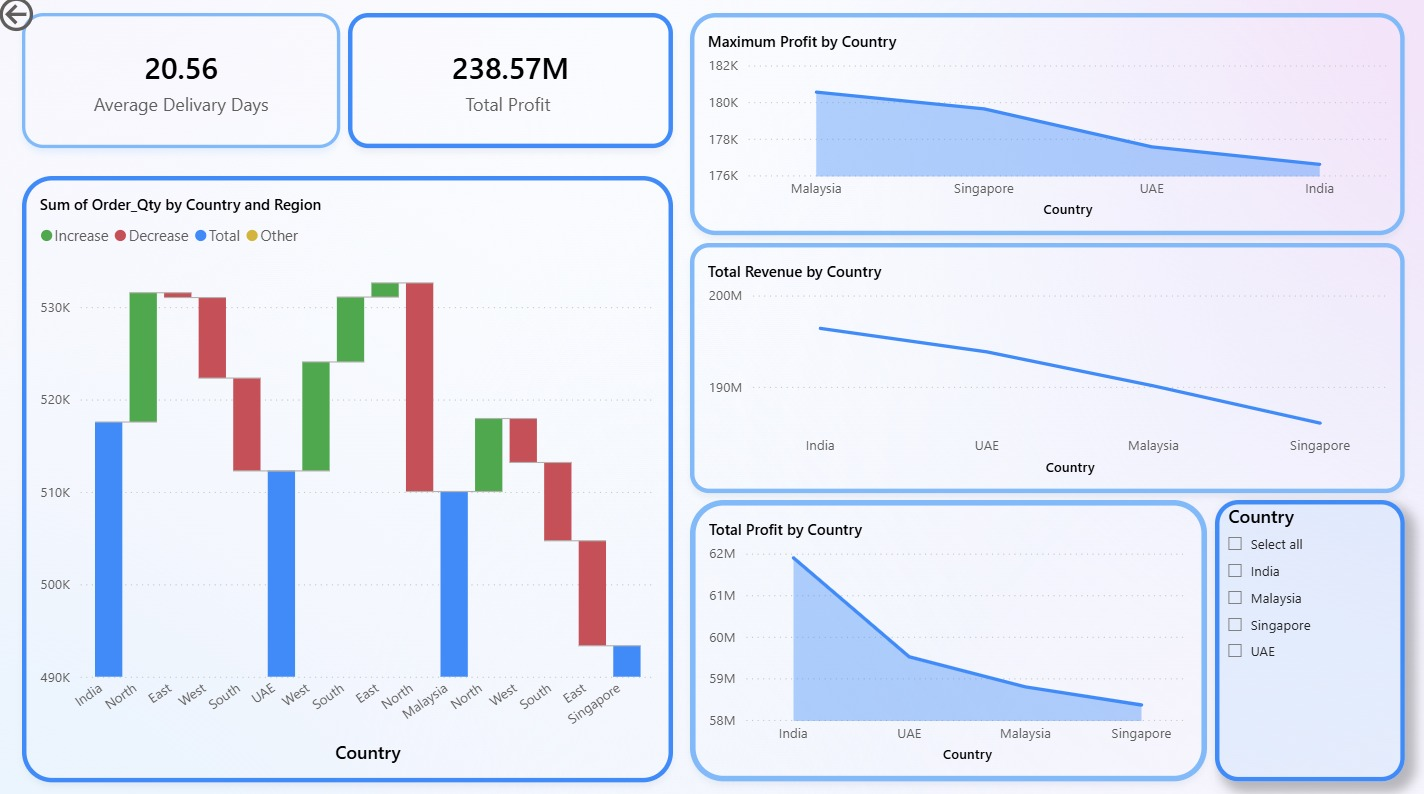

This screenshot's page, from the dashboard's own definition file:
{"tool":"powerbi","page":{"name":"Page 1","canvas":[1280,720],"ordinal":0},"visuals":[{"type":"card","fields":{"Values":["Dataset.Avg_delivary Days"]},"box":[25.3,18.5,285,120.6],"z":0},{"type":"slicer","fields":{"Values":["Dataset.Country"]},"box":[1093.3,455.2,170.2,251.9],"z":1000},{"type":"lineChart","fields":{"Category":["Dataset.Country"],"Y":["Sum(Dataset.Revenue)"]},"box":[623.5,224.7,640,223.7],"z":2000},{"type":"areaChart","fields":{"Category":["Dataset.Country"],"Y":["Max(Dataset.Profit)"]},"box":[623.3,18.8,351,198.8],"z":3000},{"type":"card","fields":{"Values":["Sum(Dataset.Profit)"]},"box":[317.1,18.5,290.8,120.6],"z":4000},{"type":"areaChart","fields":{"Category":["Dataset.Country"],"Y":["Sum(Dataset.Profit)"]},"box":[623.5,455.2,463,251.9],"z":5000},{"type":"waterfallChart","fields":{"Category":["Dataset.Country"],"Y":["Sum(Dataset.Order_Qty)"],"Breakdown":["Dataset.Region"]},"box":[25.3,164.4,582.6,542.7],"z":6000},{"type":"actionButton","box":[0,0,100,40],"z":7000},{"type":"filledMap","fields":{"Category":["Dataset.Country"]},"box":[984.2,14.3,279.4,203.3],"z":8000}]}

Visuals, with their boxes in screenshot pixels (x1, y1, x2, y2), scaled from the page's 1280x720 canvas onto the 1424x794 screenshot:
card - Dataset.Avg_delivary Days: x1=28, y1=20, x2=345, y2=153
slicer - Dataset.Country: x1=1216, y1=502, x2=1406, y2=780
lineChart - Dataset.Country x Sum(Dataset.Revenue): x1=694, y1=248, x2=1406, y2=494
areaChart - Dataset.Country x Max(Dataset.Profit): x1=693, y1=21, x2=1084, y2=240
card - Sum(Dataset.Profit): x1=353, y1=20, x2=676, y2=153
areaChart - Dataset.Country x Sum(Dataset.Profit): x1=694, y1=502, x2=1209, y2=780
waterfallChart - Dataset.Country x Sum(Dataset.Order_Qty): x1=28, y1=181, x2=676, y2=780
actionButton: x1=0, y1=0, x2=111, y2=44
filledMap - Dataset.Country: x1=1095, y1=16, x2=1406, y2=240
